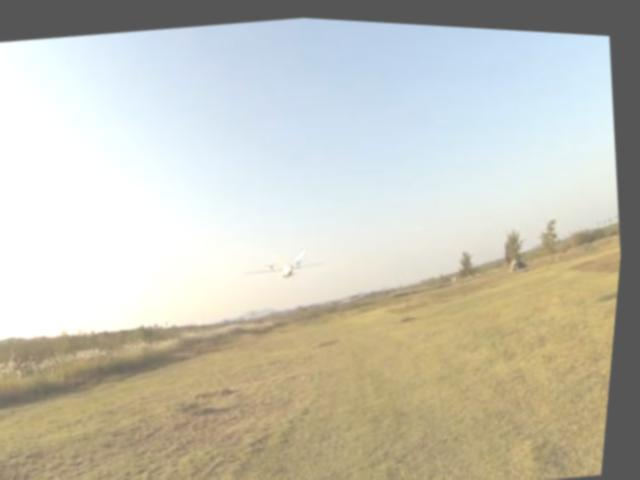uav: (234, 233, 345, 294)
